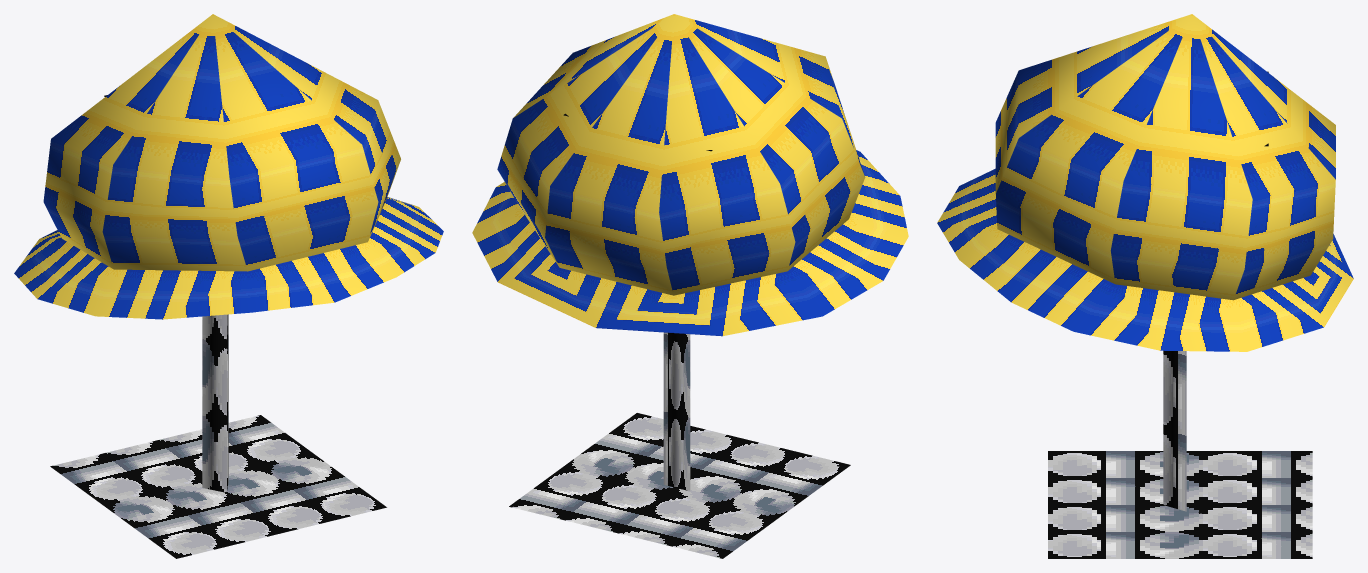
File: 2877head012_c.gltf
3 renders of one model, left to right at view 1: azimuth 30°, elevation 25°; view 2: azimuth 150°, elevation 25°; view 3: azimuth 270°, elevation 25°, orthographic. The views are drawn at different scales.
Visible parts, largest first — view 1: 2877head012_c; view 2: 2877head012_c; view 3: 2877head012_c.
Boxes of the visible parts, left/top/right/bottom form: 2877head012_c: left=14, top=14, right=443, bottom=558; 2877head012_c: left=472, top=14, right=908, bottom=558; 2877head012_c: left=937, top=14, right=1353, bottom=558.
Bounding box in the file's own units: 0.8369 × 0.9902 × 0.7554.
2 materials, 2 textured.
